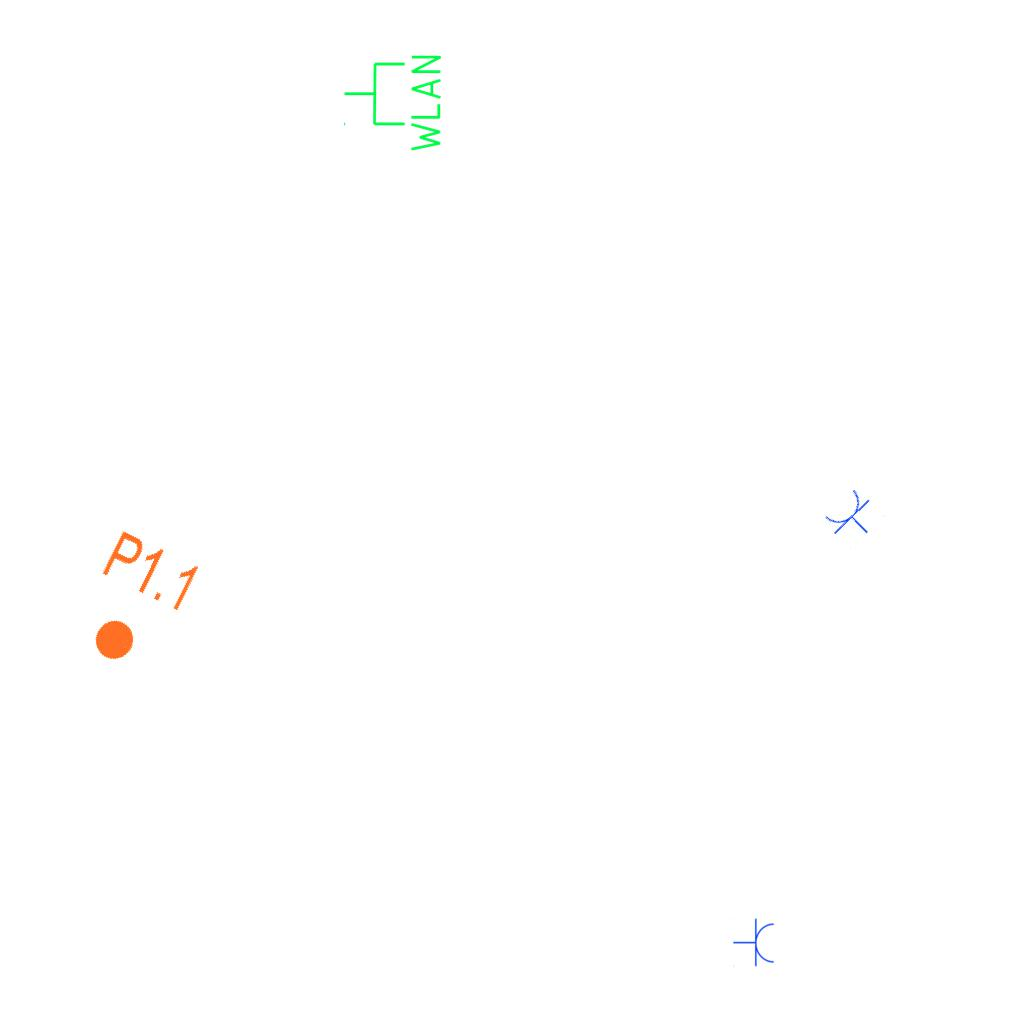Downlight_LED_Einbauleuchten_Flur: (65, 526, 206, 682)
Schukosteckdose_einfach: (820, 484, 886, 551), (733, 918, 776, 968)
WLAN: (341, 51, 445, 156)
